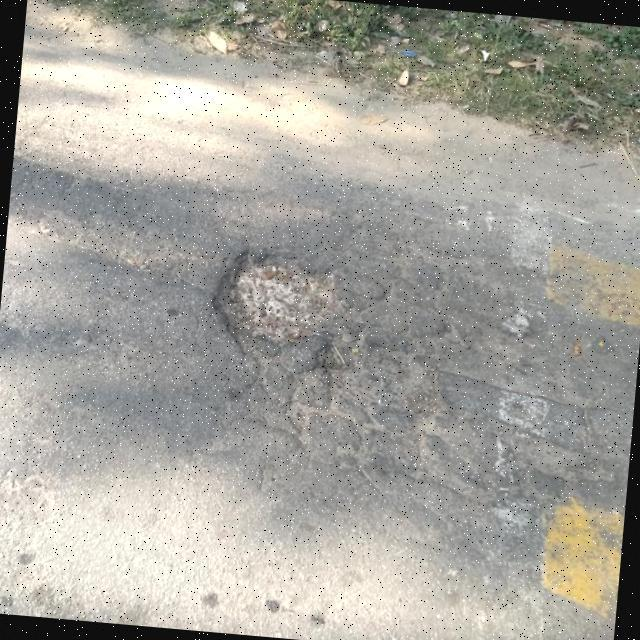Pothole: (213, 249, 333, 353)
